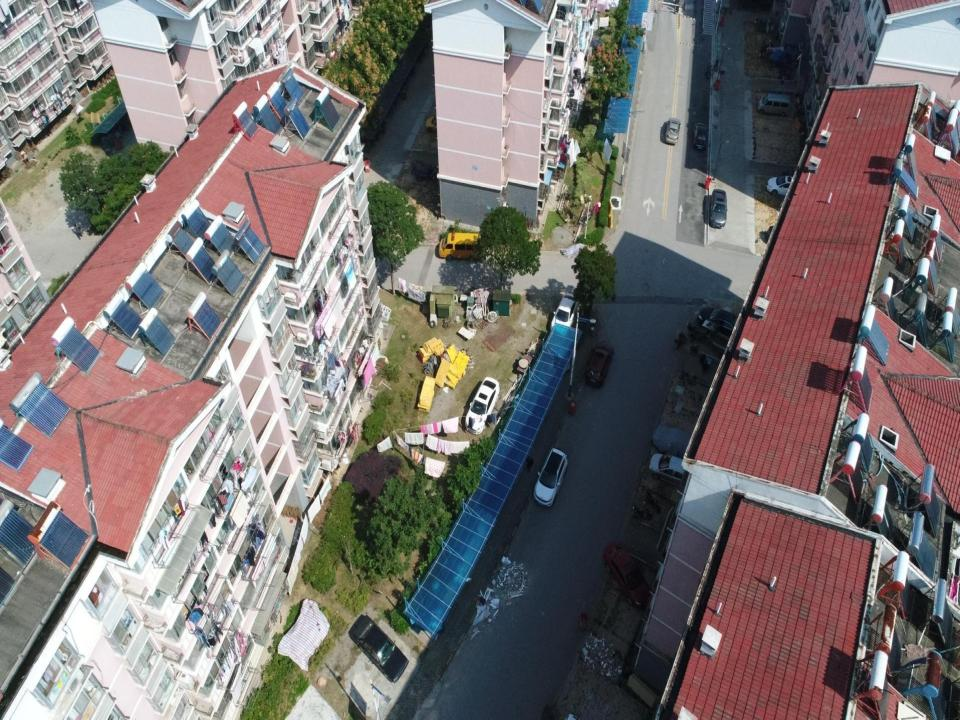car: (350, 614, 409, 683), (603, 544, 652, 609), (532, 448, 568, 510), (464, 377, 500, 435), (584, 339, 613, 389), (649, 449, 686, 487), (652, 425, 690, 459), (698, 308, 744, 336), (550, 293, 578, 335), (709, 188, 728, 229), (767, 176, 796, 193), (667, 115, 680, 145), (693, 123, 707, 150), (425, 116, 436, 133), (767, 224, 776, 239)
van: (438, 233, 482, 261), (759, 94, 790, 118)
